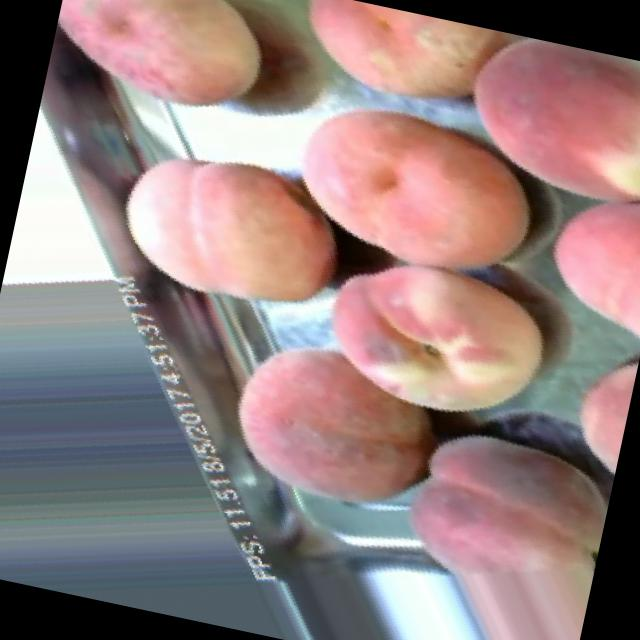Fruit: (262, 72, 578, 296), (82, 113, 374, 349), (355, 389, 622, 640), (287, 232, 581, 455), (200, 308, 470, 542), (422, 22, 640, 249), (267, 0, 544, 140), (39, 0, 293, 149), (510, 137, 640, 362), (543, 318, 640, 503)
